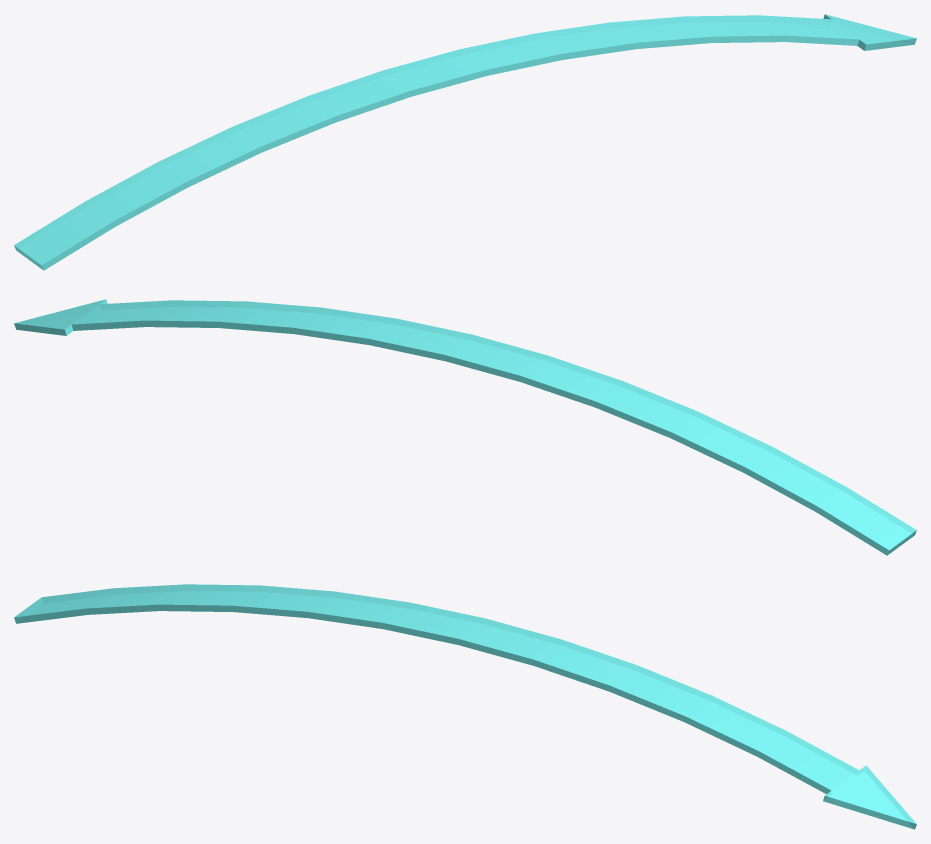
The model's file is teleport_arrow_src.glb.
3 renders of one model, top to bottom at view 1: azimuth 30°, elevation 25°; view 2: azimuth 150°, elevation 25°; view 3: azimuth 330°, elevation 25°, orthographic.
Parts seen in each view (by area): view 1: Material2; view 2: Material2; view 3: Material2.
Part boxes in pixels (left/top/right/bottom): Material2: left=14, top=14, right=916, bottom=270; Material2: left=14, top=299, right=916, bottom=555; Material2: left=14, top=584, right=916, bottom=829.
Bounding box in the file's own units: 148 × 14.81 × 12.
